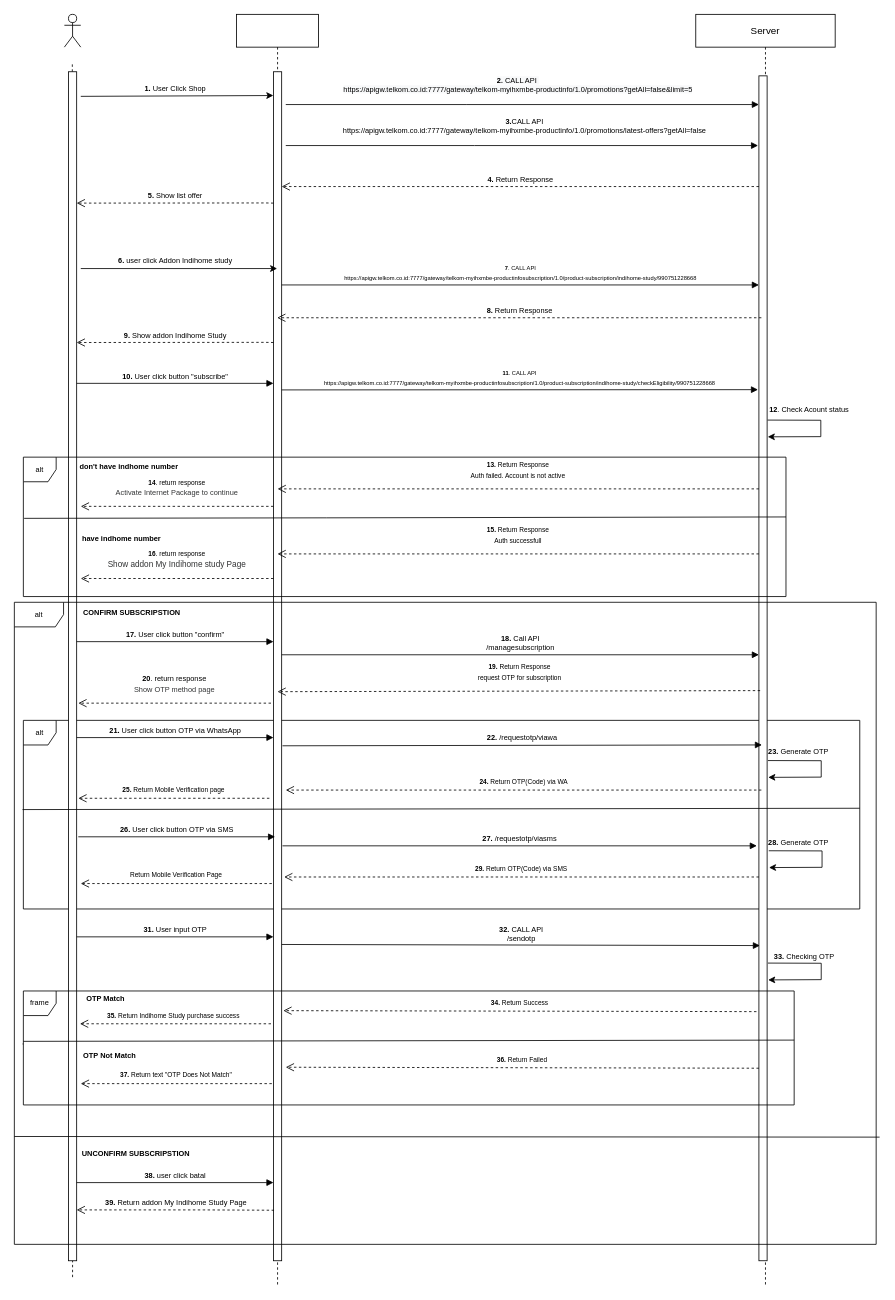
The diagram is 895 pixels wide and 1300 high, and some of its shapes have lost their labels. The shapes that lost their labels are listed below. From the top down, each one's box as (x1, y1, x2, y2) in pixels, then its label:
(64, 14, 81, 47): User
(236, 14, 319, 1285): MYIHX Interface
